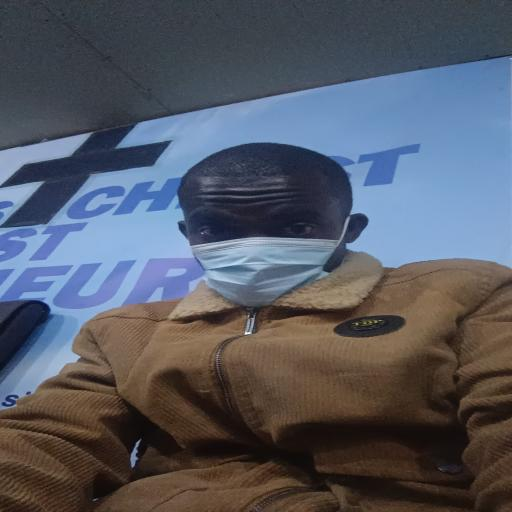MATTHIEU: (162, 137, 369, 307)
